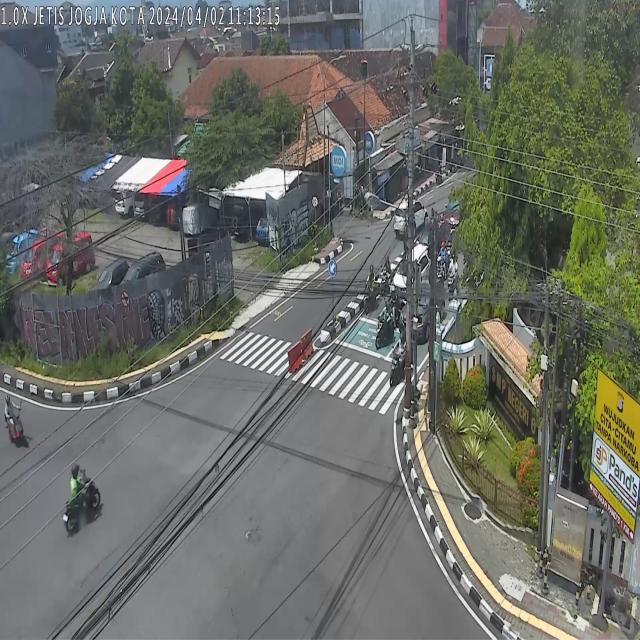car: (399, 277, 445, 343), (390, 244, 430, 298), (394, 200, 428, 238)
motorcycle: (62, 461, 102, 537), (4, 392, 27, 452), (389, 330, 408, 386), (375, 299, 395, 347), (363, 264, 378, 314), (446, 253, 460, 302), (380, 255, 393, 296), (437, 242, 447, 280)
